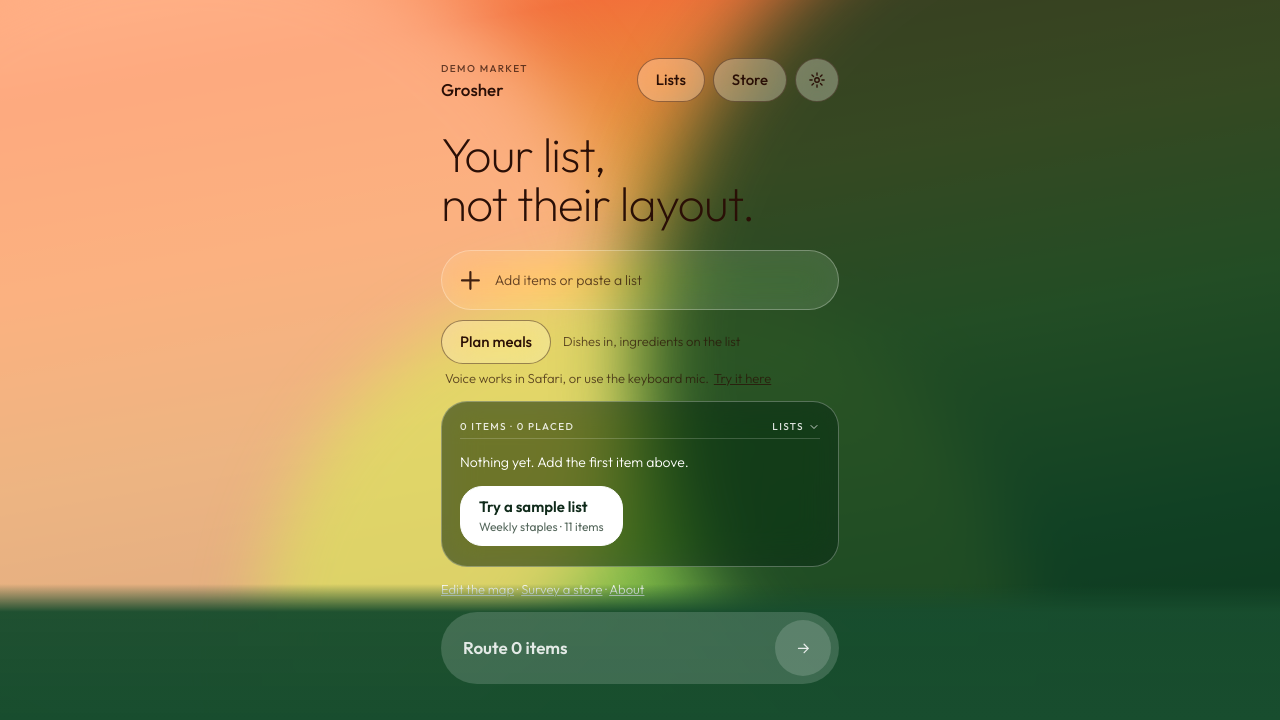
Test: voice entry › iOS home-screen app: a hint instead of the mic; Try it here shows the mic on this phone
Expected: the button "hold to speak" is not shown
Expected: the element with test id "voice-hint" shows "Voice works in Safari, or use the keyboard mic", [445,370,709,386]
Click the button "Try it here". click: (742, 379)
box: [712,370,773,387]
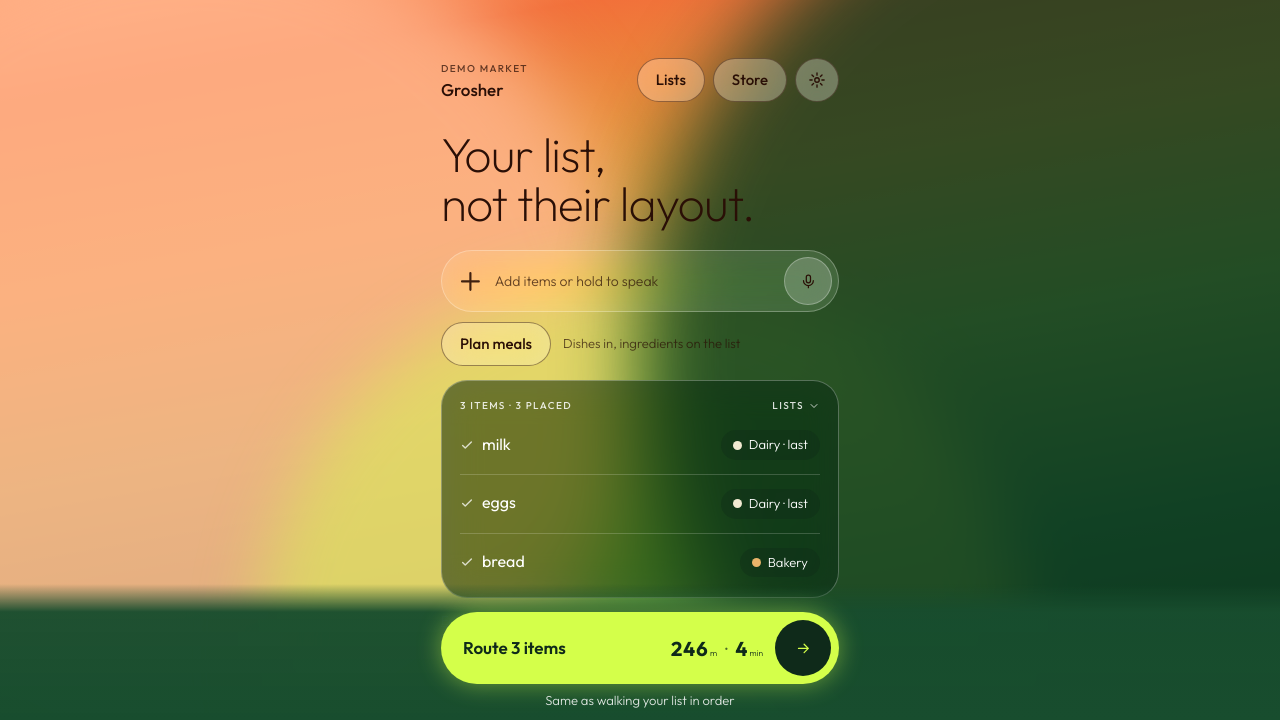
Result: the button named "hold to speak" is shown at [784,257,832,305]
Result: the element with test id "voice-hint" is gone
